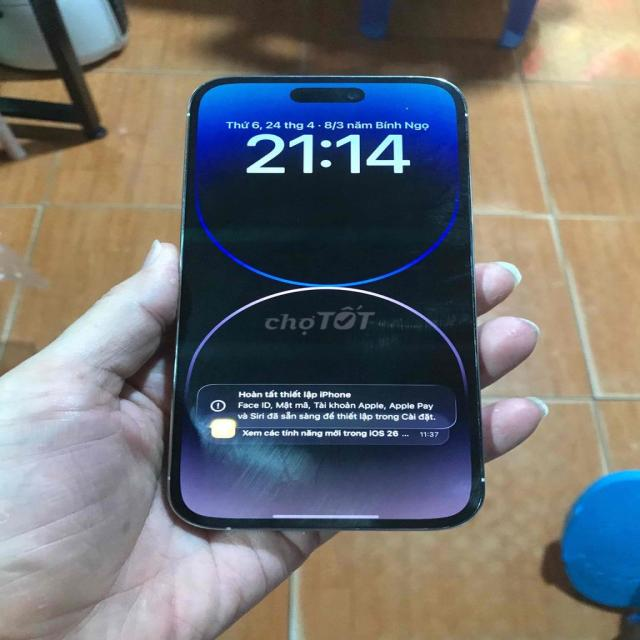scratch: (397, 96, 415, 118)
